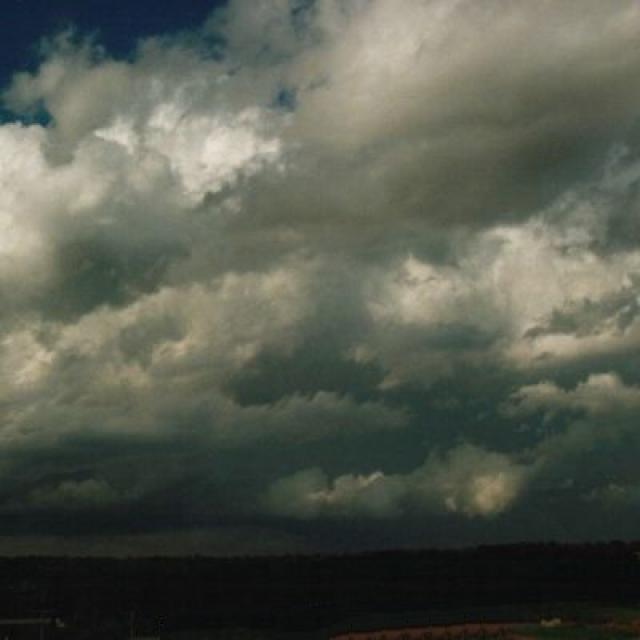Sc: (1, 2, 640, 500)
